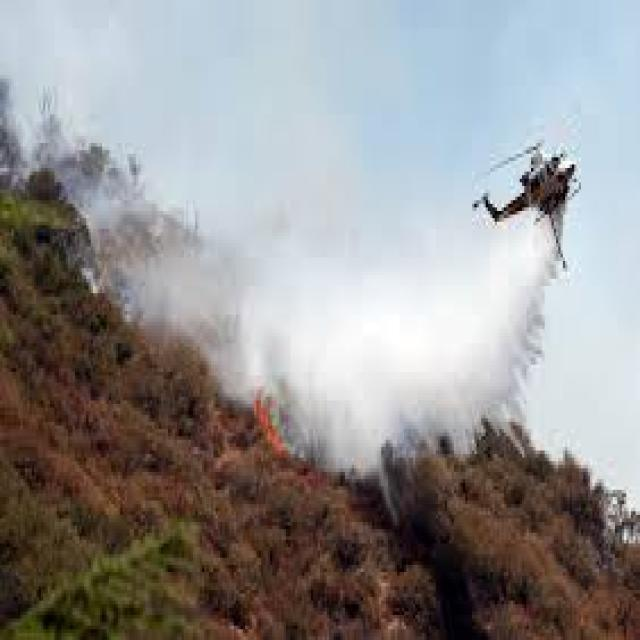Fire: (251, 392, 290, 464)
